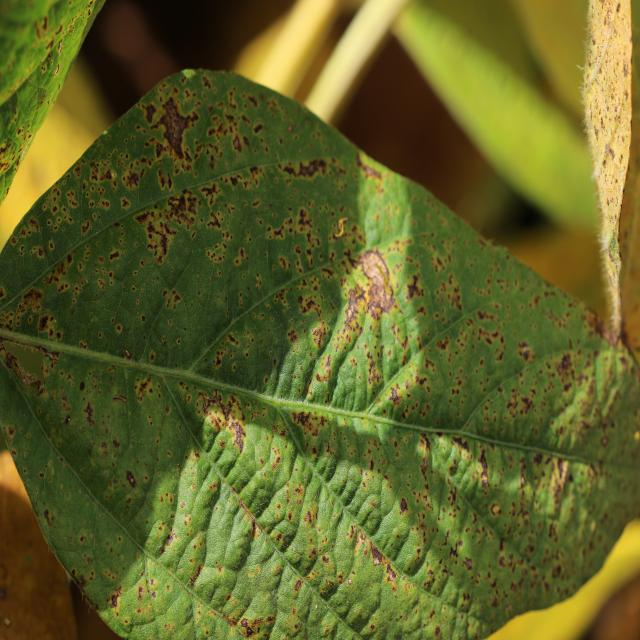Bacterial_Blight: (264, 193, 342, 276), (141, 89, 212, 173), (73, 367, 120, 445), (350, 248, 398, 320), (72, 158, 121, 227), (204, 104, 257, 162), (291, 405, 347, 456), (532, 455, 574, 521), (138, 213, 182, 266), (203, 215, 238, 267), (352, 526, 386, 576), (498, 383, 536, 423), (165, 190, 200, 223), (279, 158, 331, 180), (212, 332, 241, 370), (343, 289, 369, 327), (237, 613, 271, 639), (87, 160, 114, 191), (37, 310, 61, 342), (357, 155, 384, 183), (42, 184, 67, 214), (227, 417, 246, 451), (20, 288, 44, 314), (406, 273, 425, 301), (477, 446, 490, 486), (134, 375, 153, 402), (419, 442, 430, 479), (558, 352, 574, 377), (157, 167, 172, 191), (164, 289, 182, 309), (83, 400, 96, 426), (518, 341, 534, 361), (125, 171, 140, 189), (207, 212, 222, 230), (389, 386, 401, 406), (125, 470, 137, 488), (38, 316, 50, 333), (43, 508, 53, 526), (110, 591, 120, 609), (448, 544, 459, 560), (490, 502, 502, 516), (462, 556, 473, 571), (399, 497, 408, 513), (293, 578, 303, 592), (148, 351, 156, 362), (115, 324, 123, 334), (240, 618, 248, 628), (138, 586, 144, 597), (322, 555, 329, 564), (80, 535, 86, 543)
Soybean: (0, 71, 640, 640)
